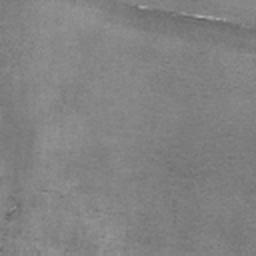Finishing roll printing: (121, 2, 234, 25)
